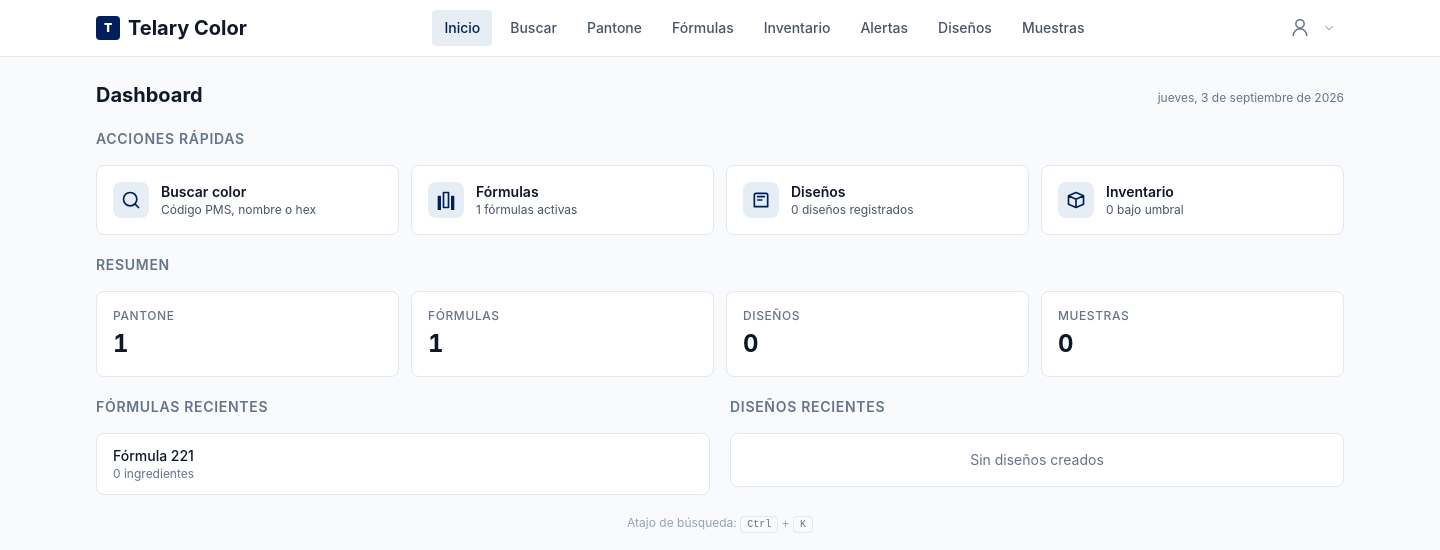
Test case: AppRouter guarded routes › navigating to /inventario/alertas renders the reorder alerts page
Click the link "Alertas" at [884, 28], box [860, 19, 908, 36]
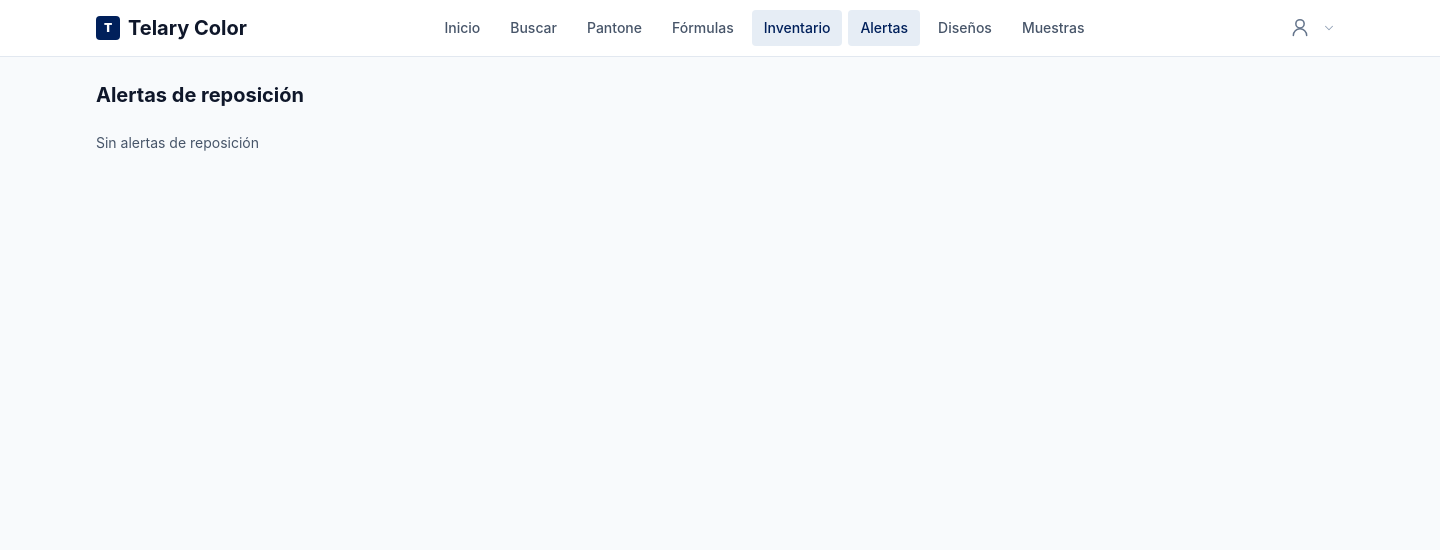
Result: the heading "Alertas de reposición" is shown at [96, 83, 304, 107]
